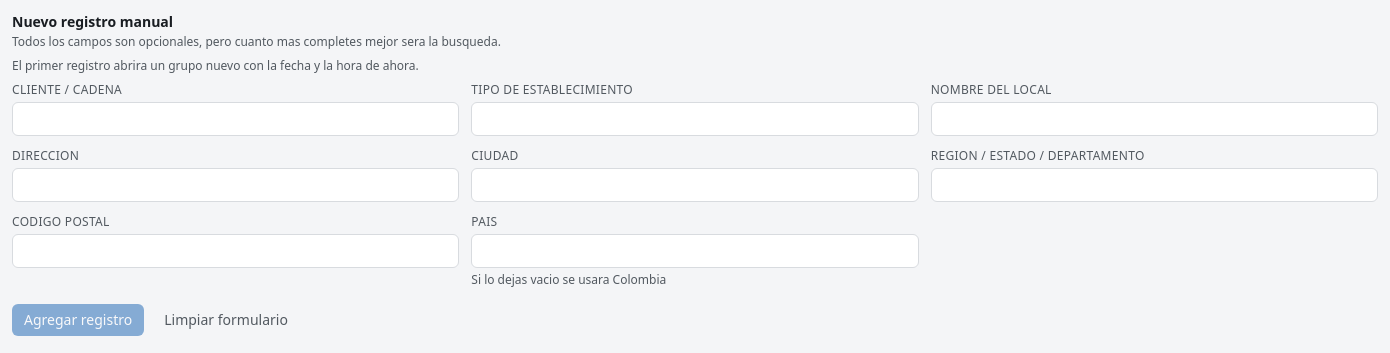
sugerencias de lugares › sugiere ciudades del pais de la sesion
Type "barran" into the dropdown labelled "Ciudad".
click(695, 185); type("barran")  # box [471, 168, 919, 202]
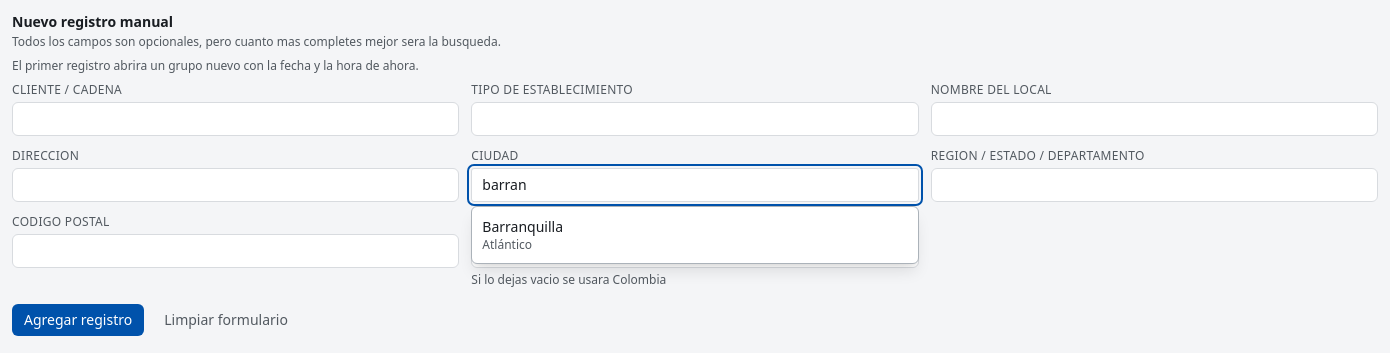
Check: the option "Barranquilla Atlántico" is shown, box [482, 217, 563, 253]
